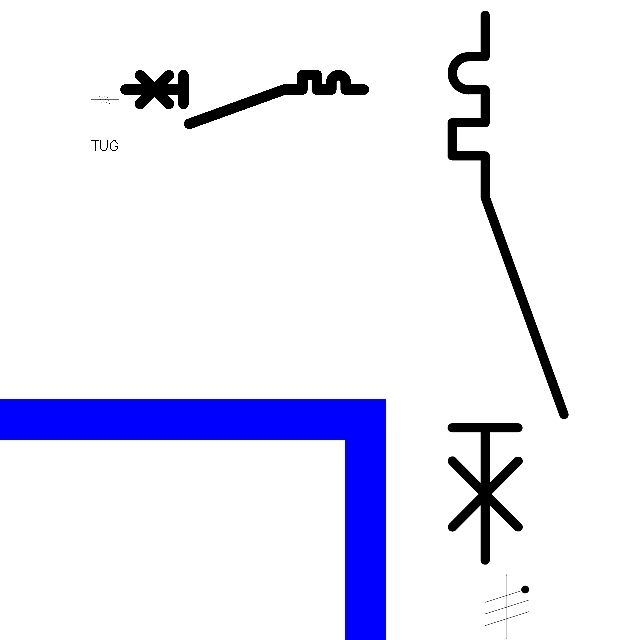interruptor_termomagnetico: (438, 1, 578, 574), (119, 69, 370, 130)
